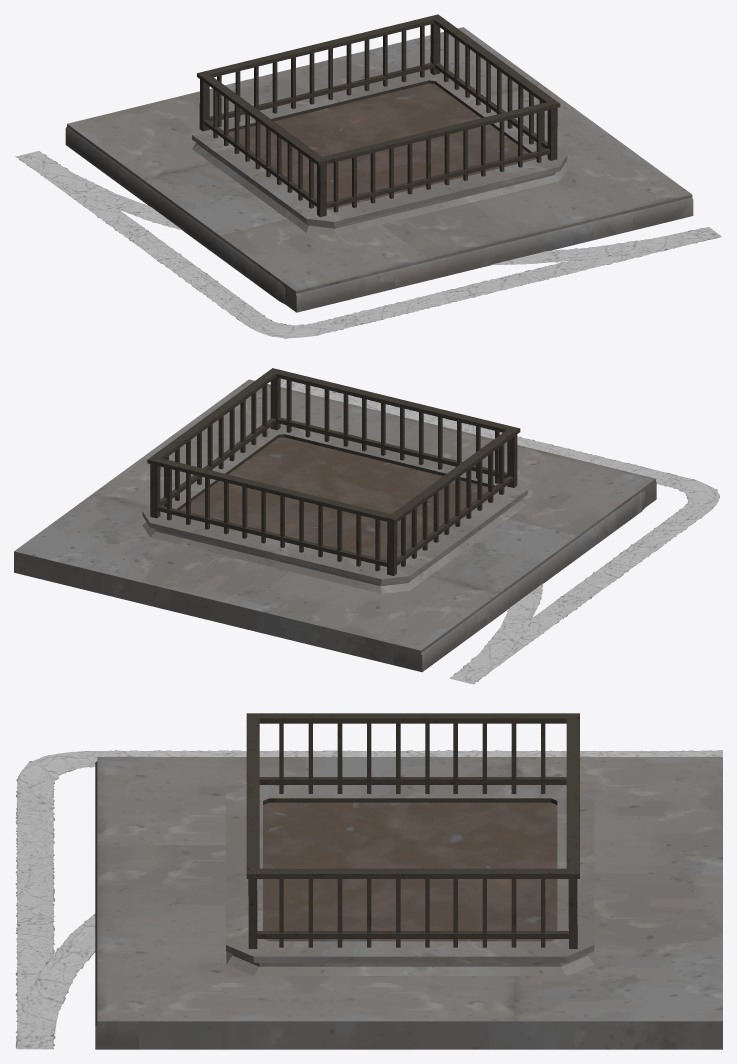
File: sidewalk.glb
The picture shows the model from 3 angles, top to bottom: view 1: azimuth 30°, elevation 25°; view 2: azimuth 150°, elevation 25°; view 3: azimuth 270°, elevation 25°; orthographic projection. The views are drawn at different scales.
Visible parts, largest first — view 1: Sidewalk_Planter, Sidewalk_NoCurb_3m, Sidewalk_Corner_Flat_3m, Sidewalk_Corner_Flat_3m_Stripe, Sidewalk_Corner_Round_3m_Stripe, Sidewalk_Straight_3m; view 2: Sidewalk_Planter, Sidewalk_NoCurb_3m, Sidewalk_Corner_Flat_3m, Sidewalk_Corner_Flat_3m_Stripe, Sidewalk_Corner_Round_3m, Sidewalk_Corner_Round_3m_Stripe, Sidewalk_Straight_3m_Stripe, Sidewalk_Straight_3m; view 3: Sidewalk_NoCurb_3m, Sidewalk_Planter, Sidewalk_Straight_3m, Sidewalk_Corner_Flat_3m_Stripe, Sidewalk_Straight_3m_Stripe, Sidewalk_Corner_Round_3m_Stripe, Sidewalk_Corner_Flat_3m.
Boxes of the visible parts, box(x1,y1,x2,y2) form: Sidewalk_Planter: box(192, 14, 567, 235); Sidewalk_NoCurb_3m: box(67, 27, 692, 293); Sidewalk_Corner_Flat_3m: box(65, 127, 693, 306); Sidewalk_Corner_Flat_3m_Stripe: box(19, 152, 718, 338); Sidewalk_Corner_Round_3m_Stripe: box(15, 151, 721, 264); Sidewalk_Straight_3m: box(67, 124, 322, 312); Sidewalk_Planter: box(142, 368, 527, 593); Sidewalk_NoCurb_3m: box(14, 379, 655, 652); Sidewalk_Corner_Flat_3m: box(14, 491, 645, 672); Sidewalk_Corner_Flat_3m_Stripe: box(298, 383, 719, 684); Sidewalk_Corner_Round_3m: box(14, 551, 422, 671); Sidewalk_Corner_Round_3m_Stripe: box(280, 378, 543, 684); Sidewalk_Straight_3m_Stripe: box(295, 382, 684, 487); Sidewalk_Straight_3m: box(414, 480, 656, 668); Sidewalk_NoCurb_3m: box(97, 757, 722, 1024); Sidewalk_Planter: box(226, 713, 594, 975); Sidewalk_Straight_3m: box(95, 761, 722, 1049); Sidewalk_Corner_Flat_3m_Stripe: box(15, 750, 710, 1045); Sidewalk_Straight_3m_Stripe: box(15, 785, 54, 1049); Sidewalk_Corner_Round_3m_Stripe: box(16, 750, 722, 1048); Sidewalk_Corner_Flat_3m: box(95, 779, 97, 1026).
Size of what is drawn, in the model's own units: 3.4 by 0.6558 by 3.4.
3 materials, 3 textured.
